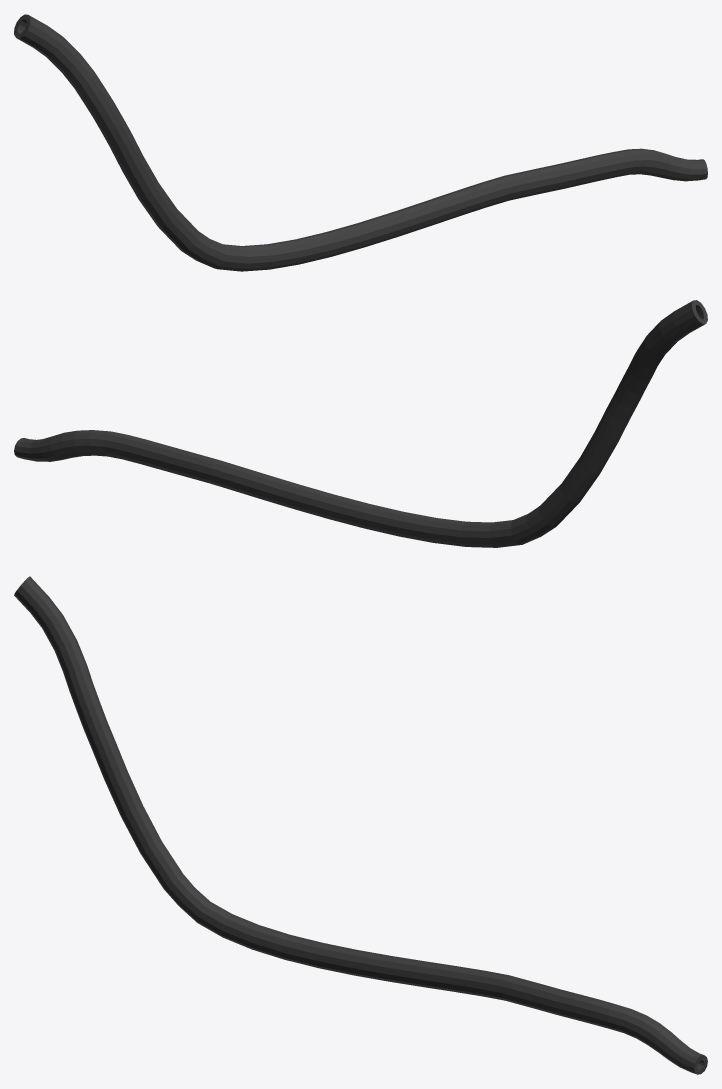
Rendered from oesophagus_LO.glb.
The picture shows the model from 3 angles, top to bottom: view 1: azimuth 30°, elevation 25°; view 2: azimuth 150°, elevation 25°; view 3: azimuth 330°, elevation 25°; orthographic projection.
Visible parts, largest first — view 1: oesophagus_LO; view 2: oesophagus_LO; view 3: oesophagus_LO.
Part boxes in pixels (x1=…): oesophagus_LO: x1=14, y1=14, x2=707, y2=271; oesophagus_LO: x1=14, y1=300, x2=707, y2=547; oesophagus_LO: x1=14, y1=576, x2=707, y2=1074.
Size of the model in its own units: 0.0299 by 0.0134 by 0.00148.
1 material, 1 textured.
